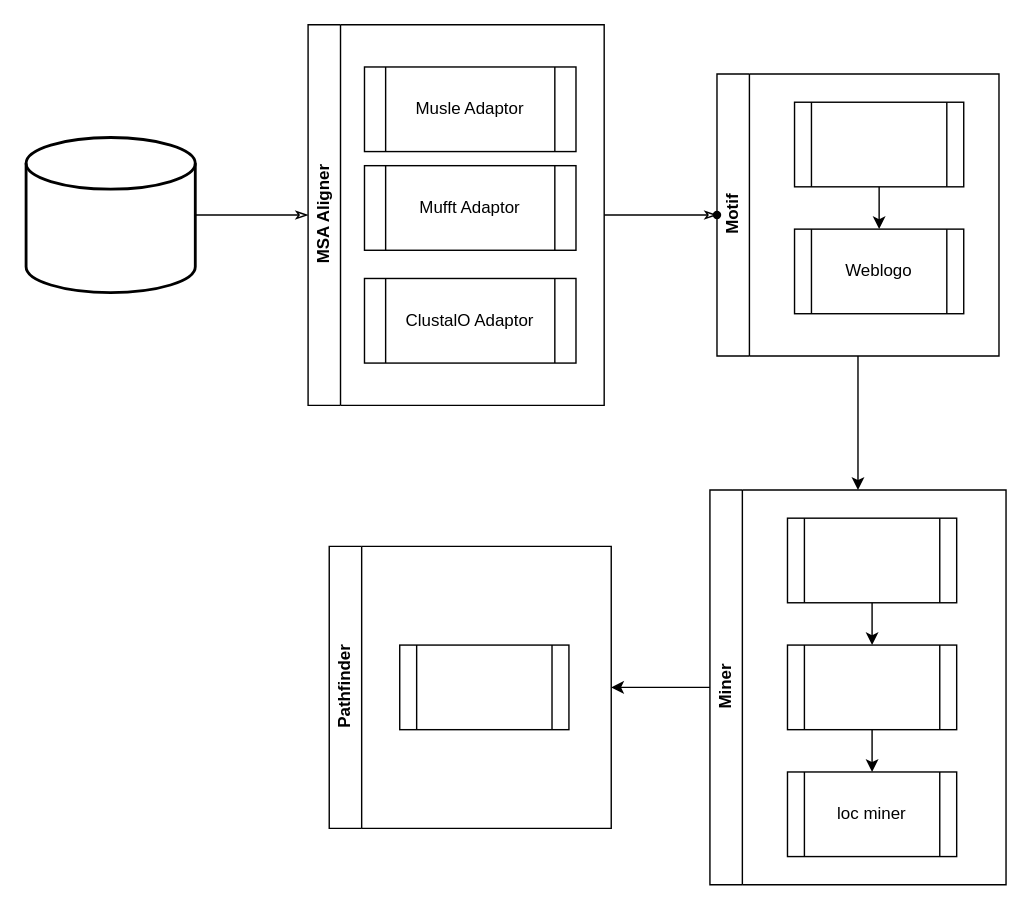
Image size: 1031x909. Some labels were removed from this diagram. Here are the shapes that lost their labels. From the top down, the box of each, then its label:
(793, 101, 964, 187): Consensus
(24, 135, 196, 293): Protein/Peptides Sequences in fasta format
(786, 517, 957, 603): size miner
(398, 644, 569, 730): KEGG matcher
(786, 644, 957, 730): motif miner
